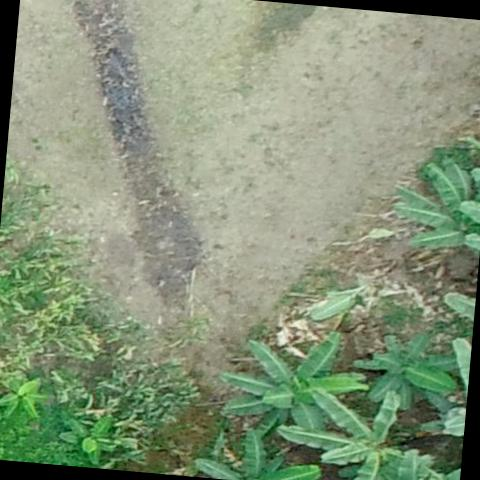Banana-plant: (214, 321, 370, 454), (276, 379, 432, 480), (355, 318, 466, 414), (50, 410, 133, 469), (0, 372, 56, 425)
